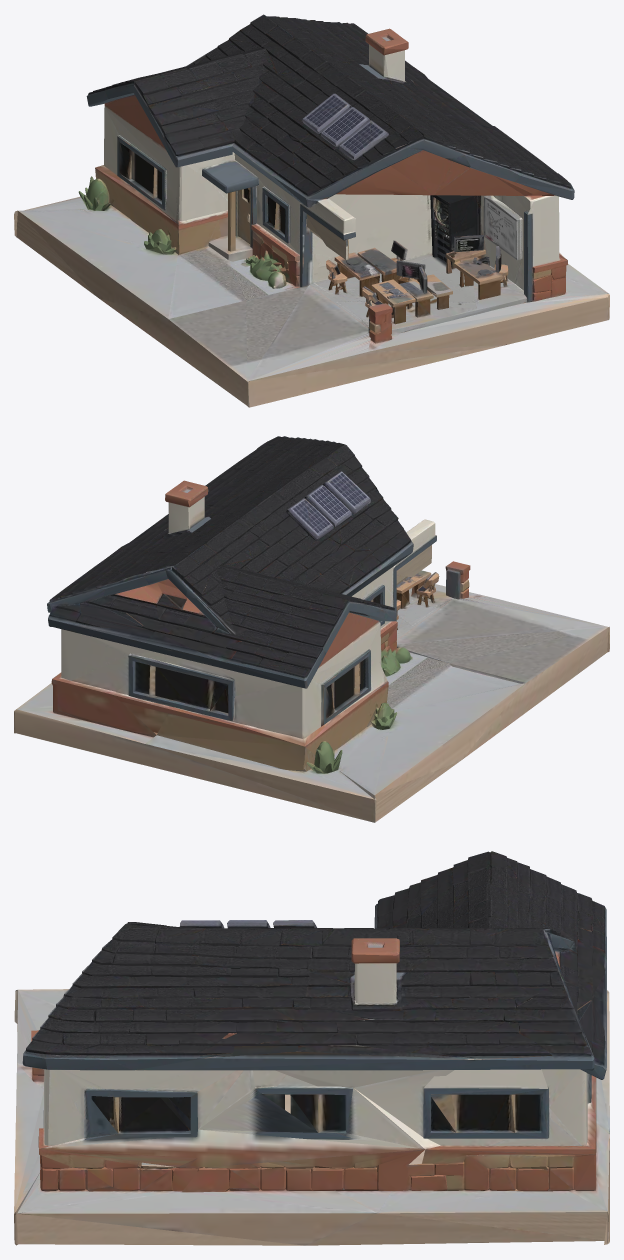
The model's file is garage.glb.
The picture shows the model from 3 angles, top to bottom: view 1: azimuth 30°, elevation 25°; view 2: azimuth 150°, elevation 25°; view 3: azimuth 270°, elevation 25°; orthographic projection. The views are drawn at different scales.
Size of the model in its own units: 1.7 by 0.8881 by 1.9.
Materials: 1 (1 with a texture image).
